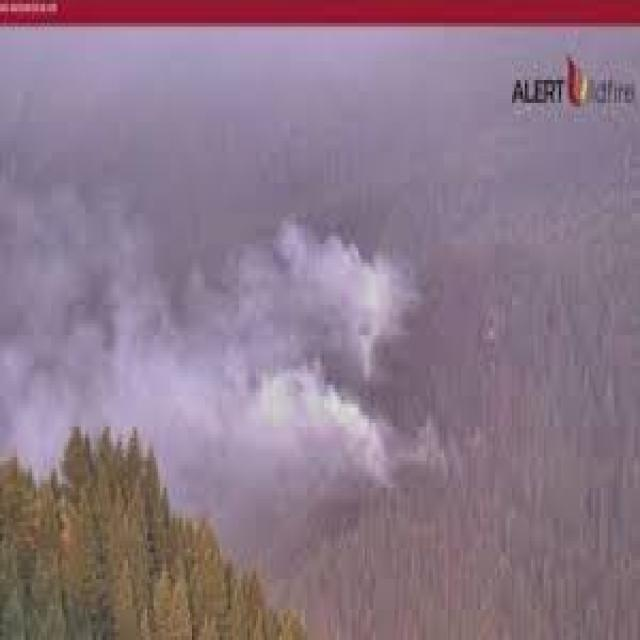Smoke: (9, 194, 432, 374), (166, 214, 408, 524)
